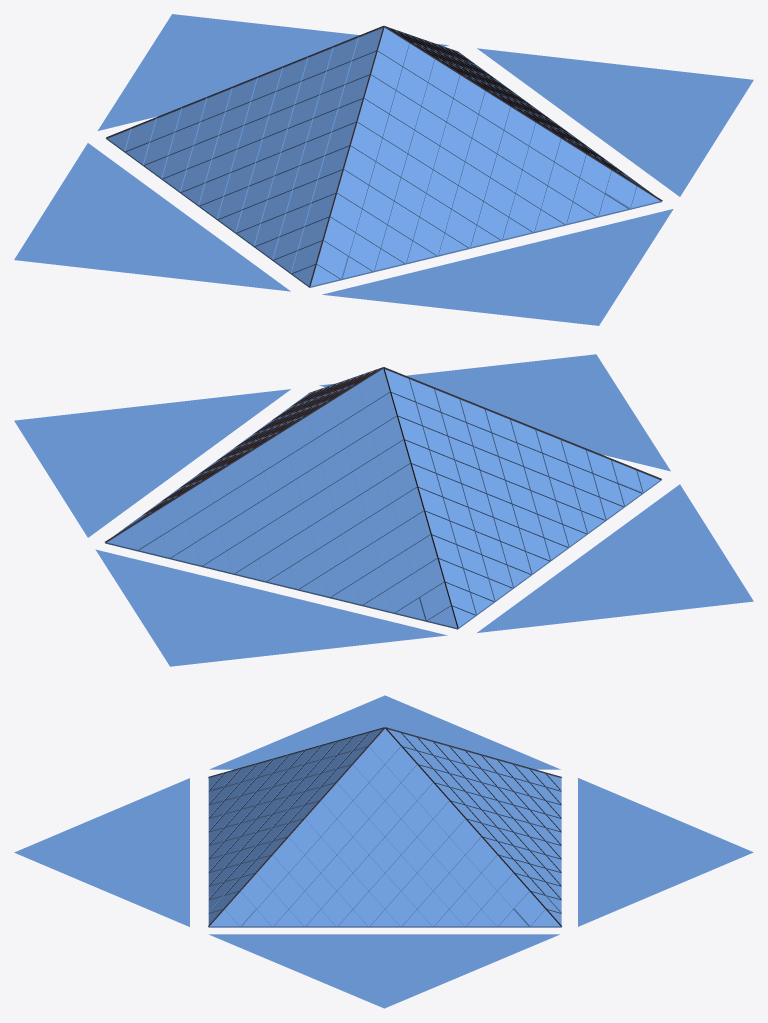
File: louvreMuseum.fbx
3 renders of one model, top to bottom at view 1: azimuth 30°, elevation 25°; view 2: azimuth 150°, elevation 25°; view 3: azimuth 270°, elevation 25°, orthographic. The views are drawn at different scales.
Visible parts, largest first — view 1: Cube.001, Cube, Plane.003, Plane, Plane.001, Plane.002; view 2: Cube.001, Cube, Plane.002, Plane.001, Plane, Plane.003; view 3: Cube.001, Cube, Plane.001, Plane.003, Plane.002, Plane.
Boxes of the visible parts, box(x1,y1,x2,y2) form: Cube.001: box(106, 26, 662, 287); Cube: box(106, 25, 662, 287); Plane.003: box(322, 209, 673, 325); Plane: box(14, 143, 290, 291); Plane.001: box(477, 48, 753, 196); Plane.002: box(98, 14, 448, 130); Cube.001: box(104, 367, 661, 629); Cube: box(105, 367, 661, 628); Plane.002: box(95, 549, 447, 666); Plane.001: box(14, 389, 290, 537); Plane: box(477, 484, 753, 632); Plane.003: box(319, 354, 670, 471); Cube.001: box(208, 727, 561, 926); Cube: box(208, 727, 562, 927); Plane.001: box(209, 934, 559, 1008); Plane.003: box(14, 778, 189, 926); Plane.002: box(578, 778, 753, 926); Plane: box(209, 695, 560, 769).
Size of the model in its own units: 420 by 78.51 by 419.
